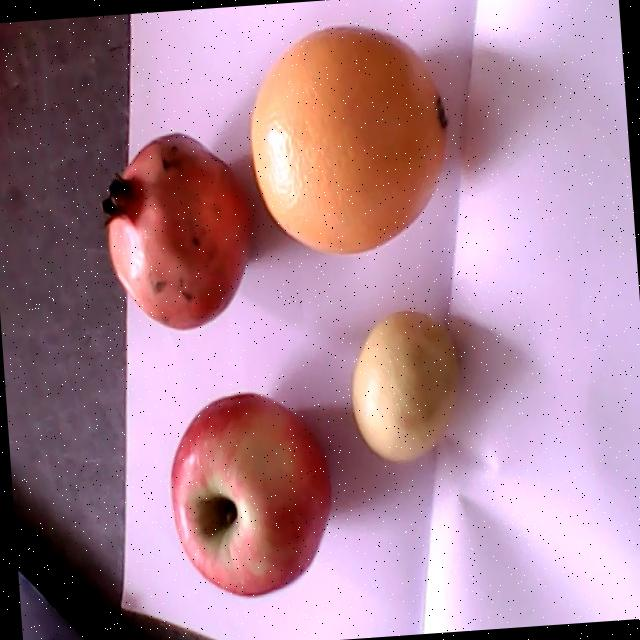apple: (171, 392, 332, 595)
lemon: (350, 311, 460, 463)
orange: (249, 23, 444, 253)
pomegranate: (98, 130, 252, 330)
